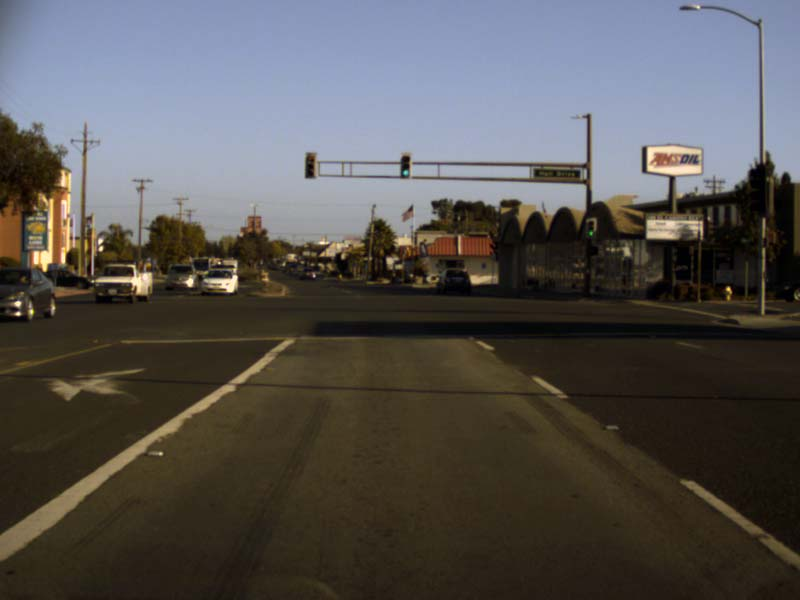Green: (399, 155, 410, 176), (587, 221, 593, 237)
Red: (305, 154, 315, 178)
